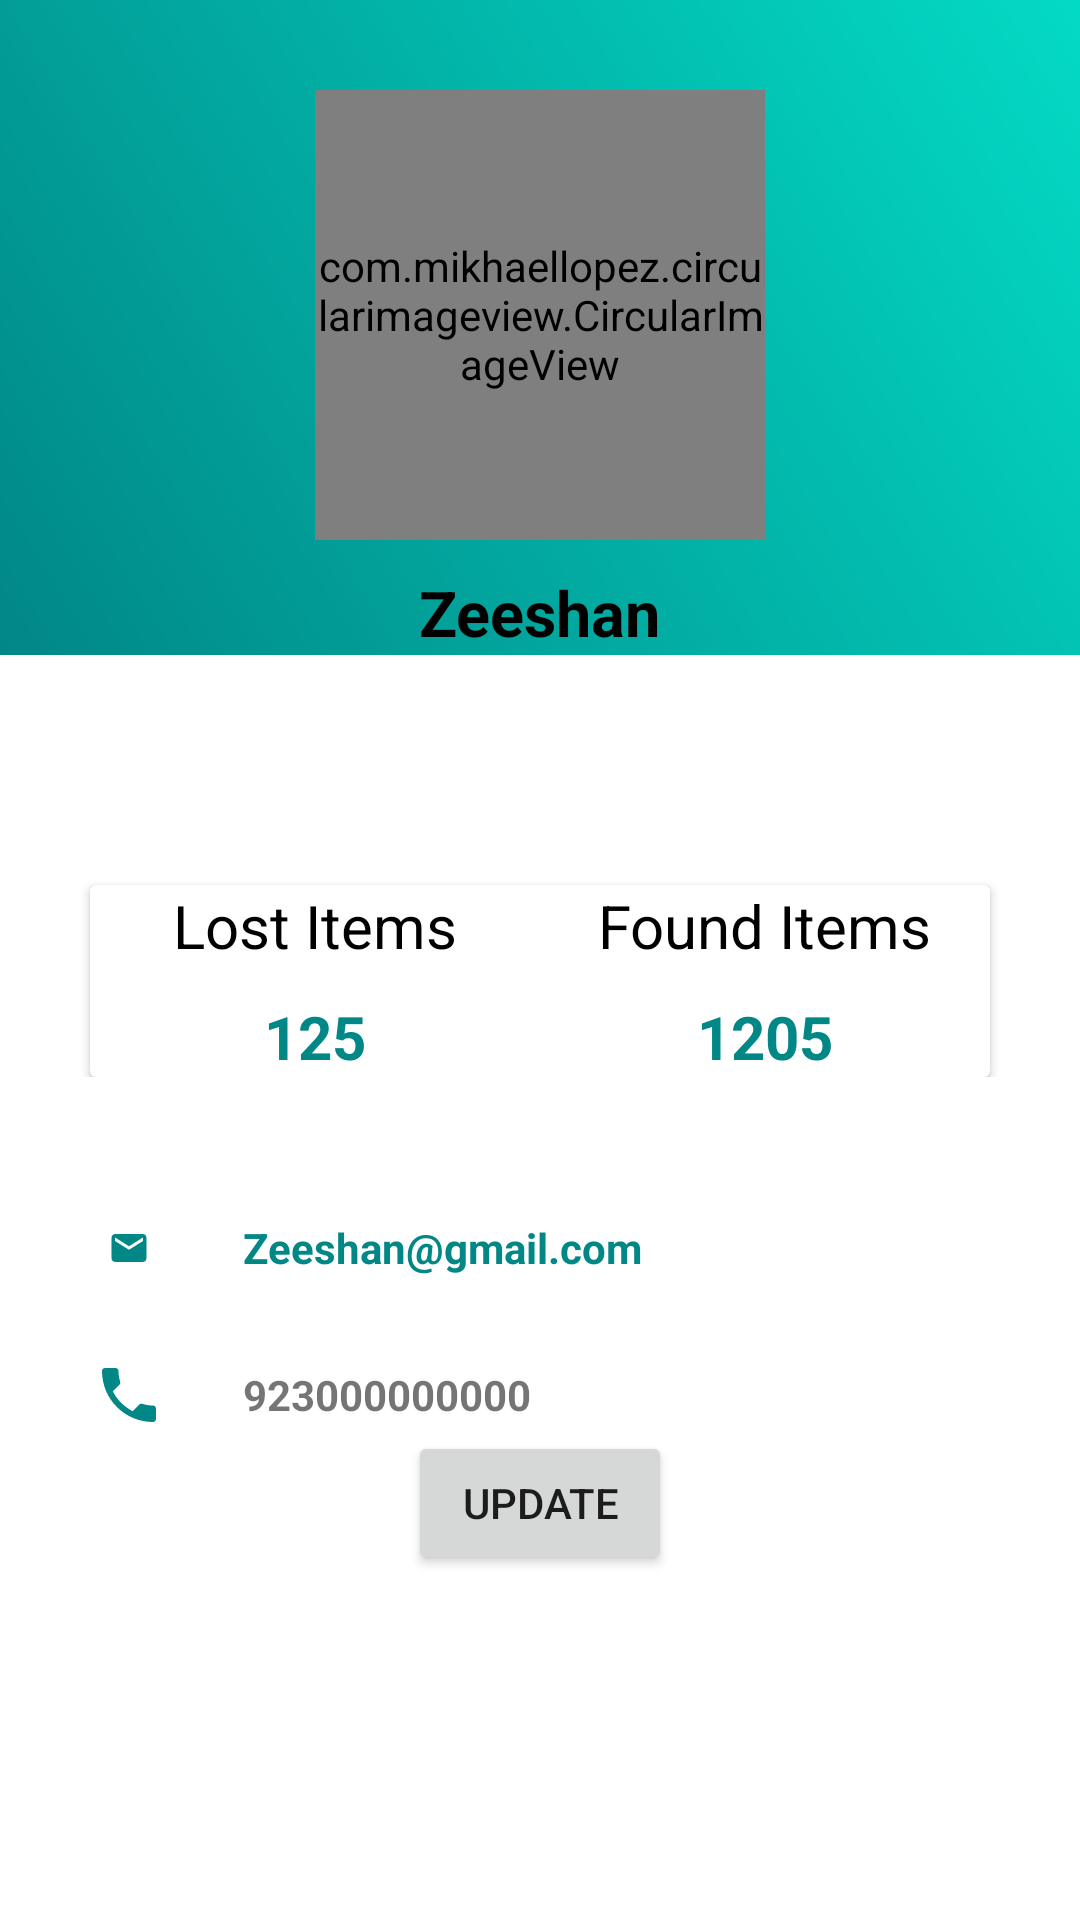

Named icons in this screenshot (1080px×1920px) and their centers, (x,y):
phone: (129,1395)
